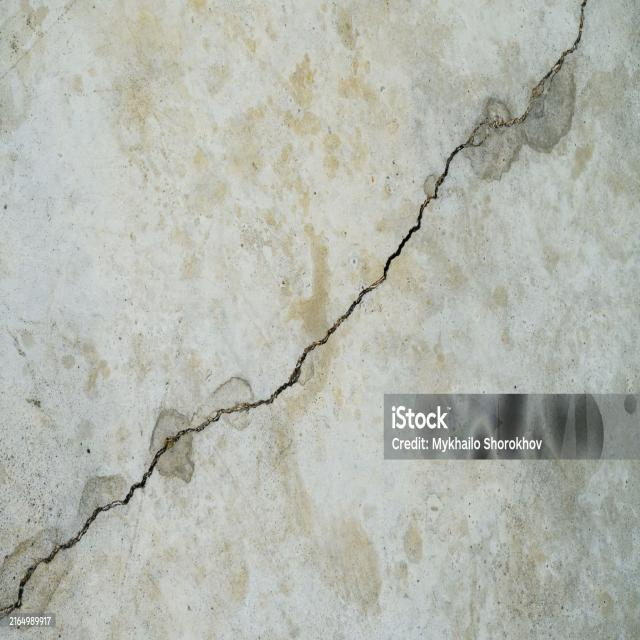crack: (1, 0, 589, 619)
